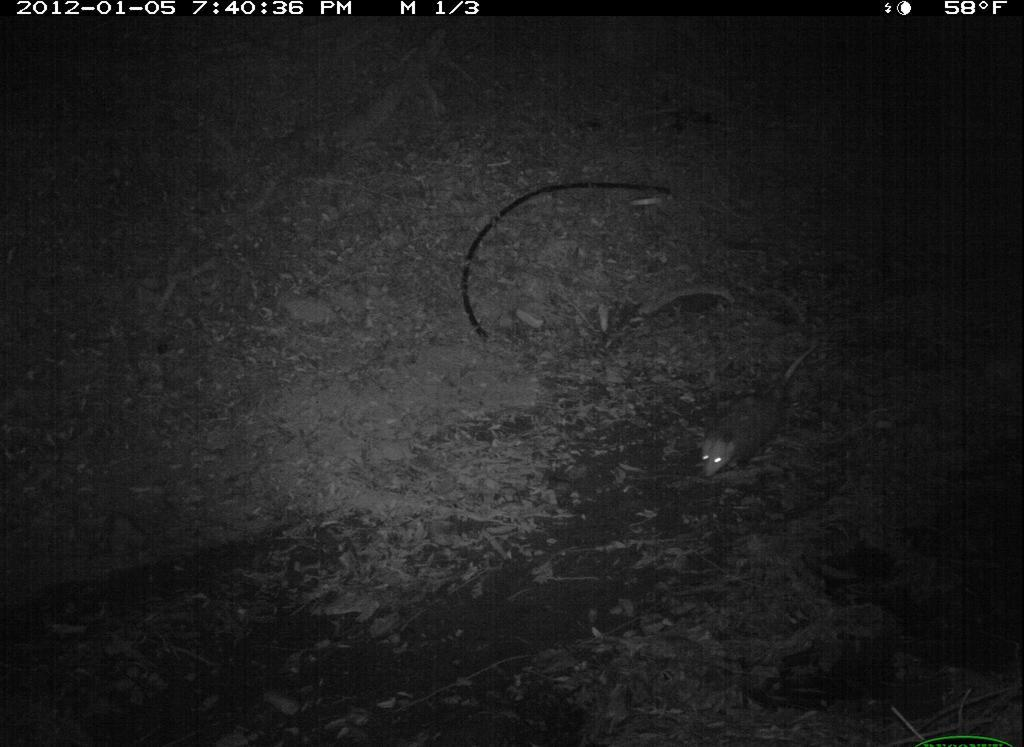opossum: (690, 332, 833, 482)
